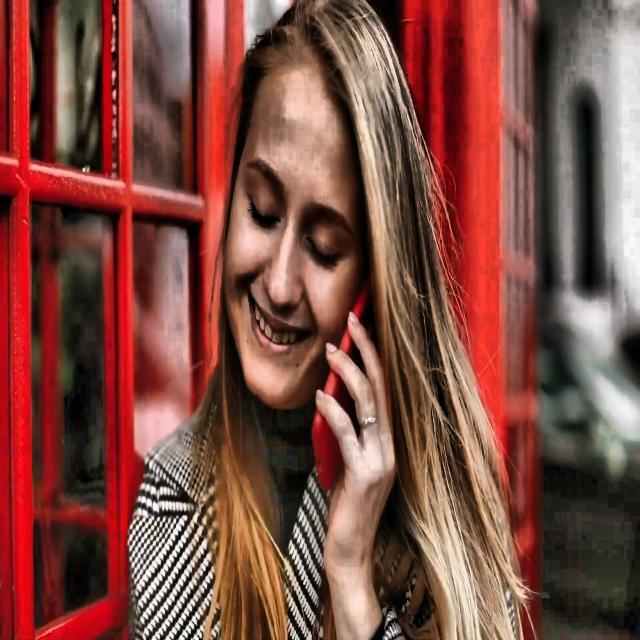Phone: (310, 274, 378, 493)
